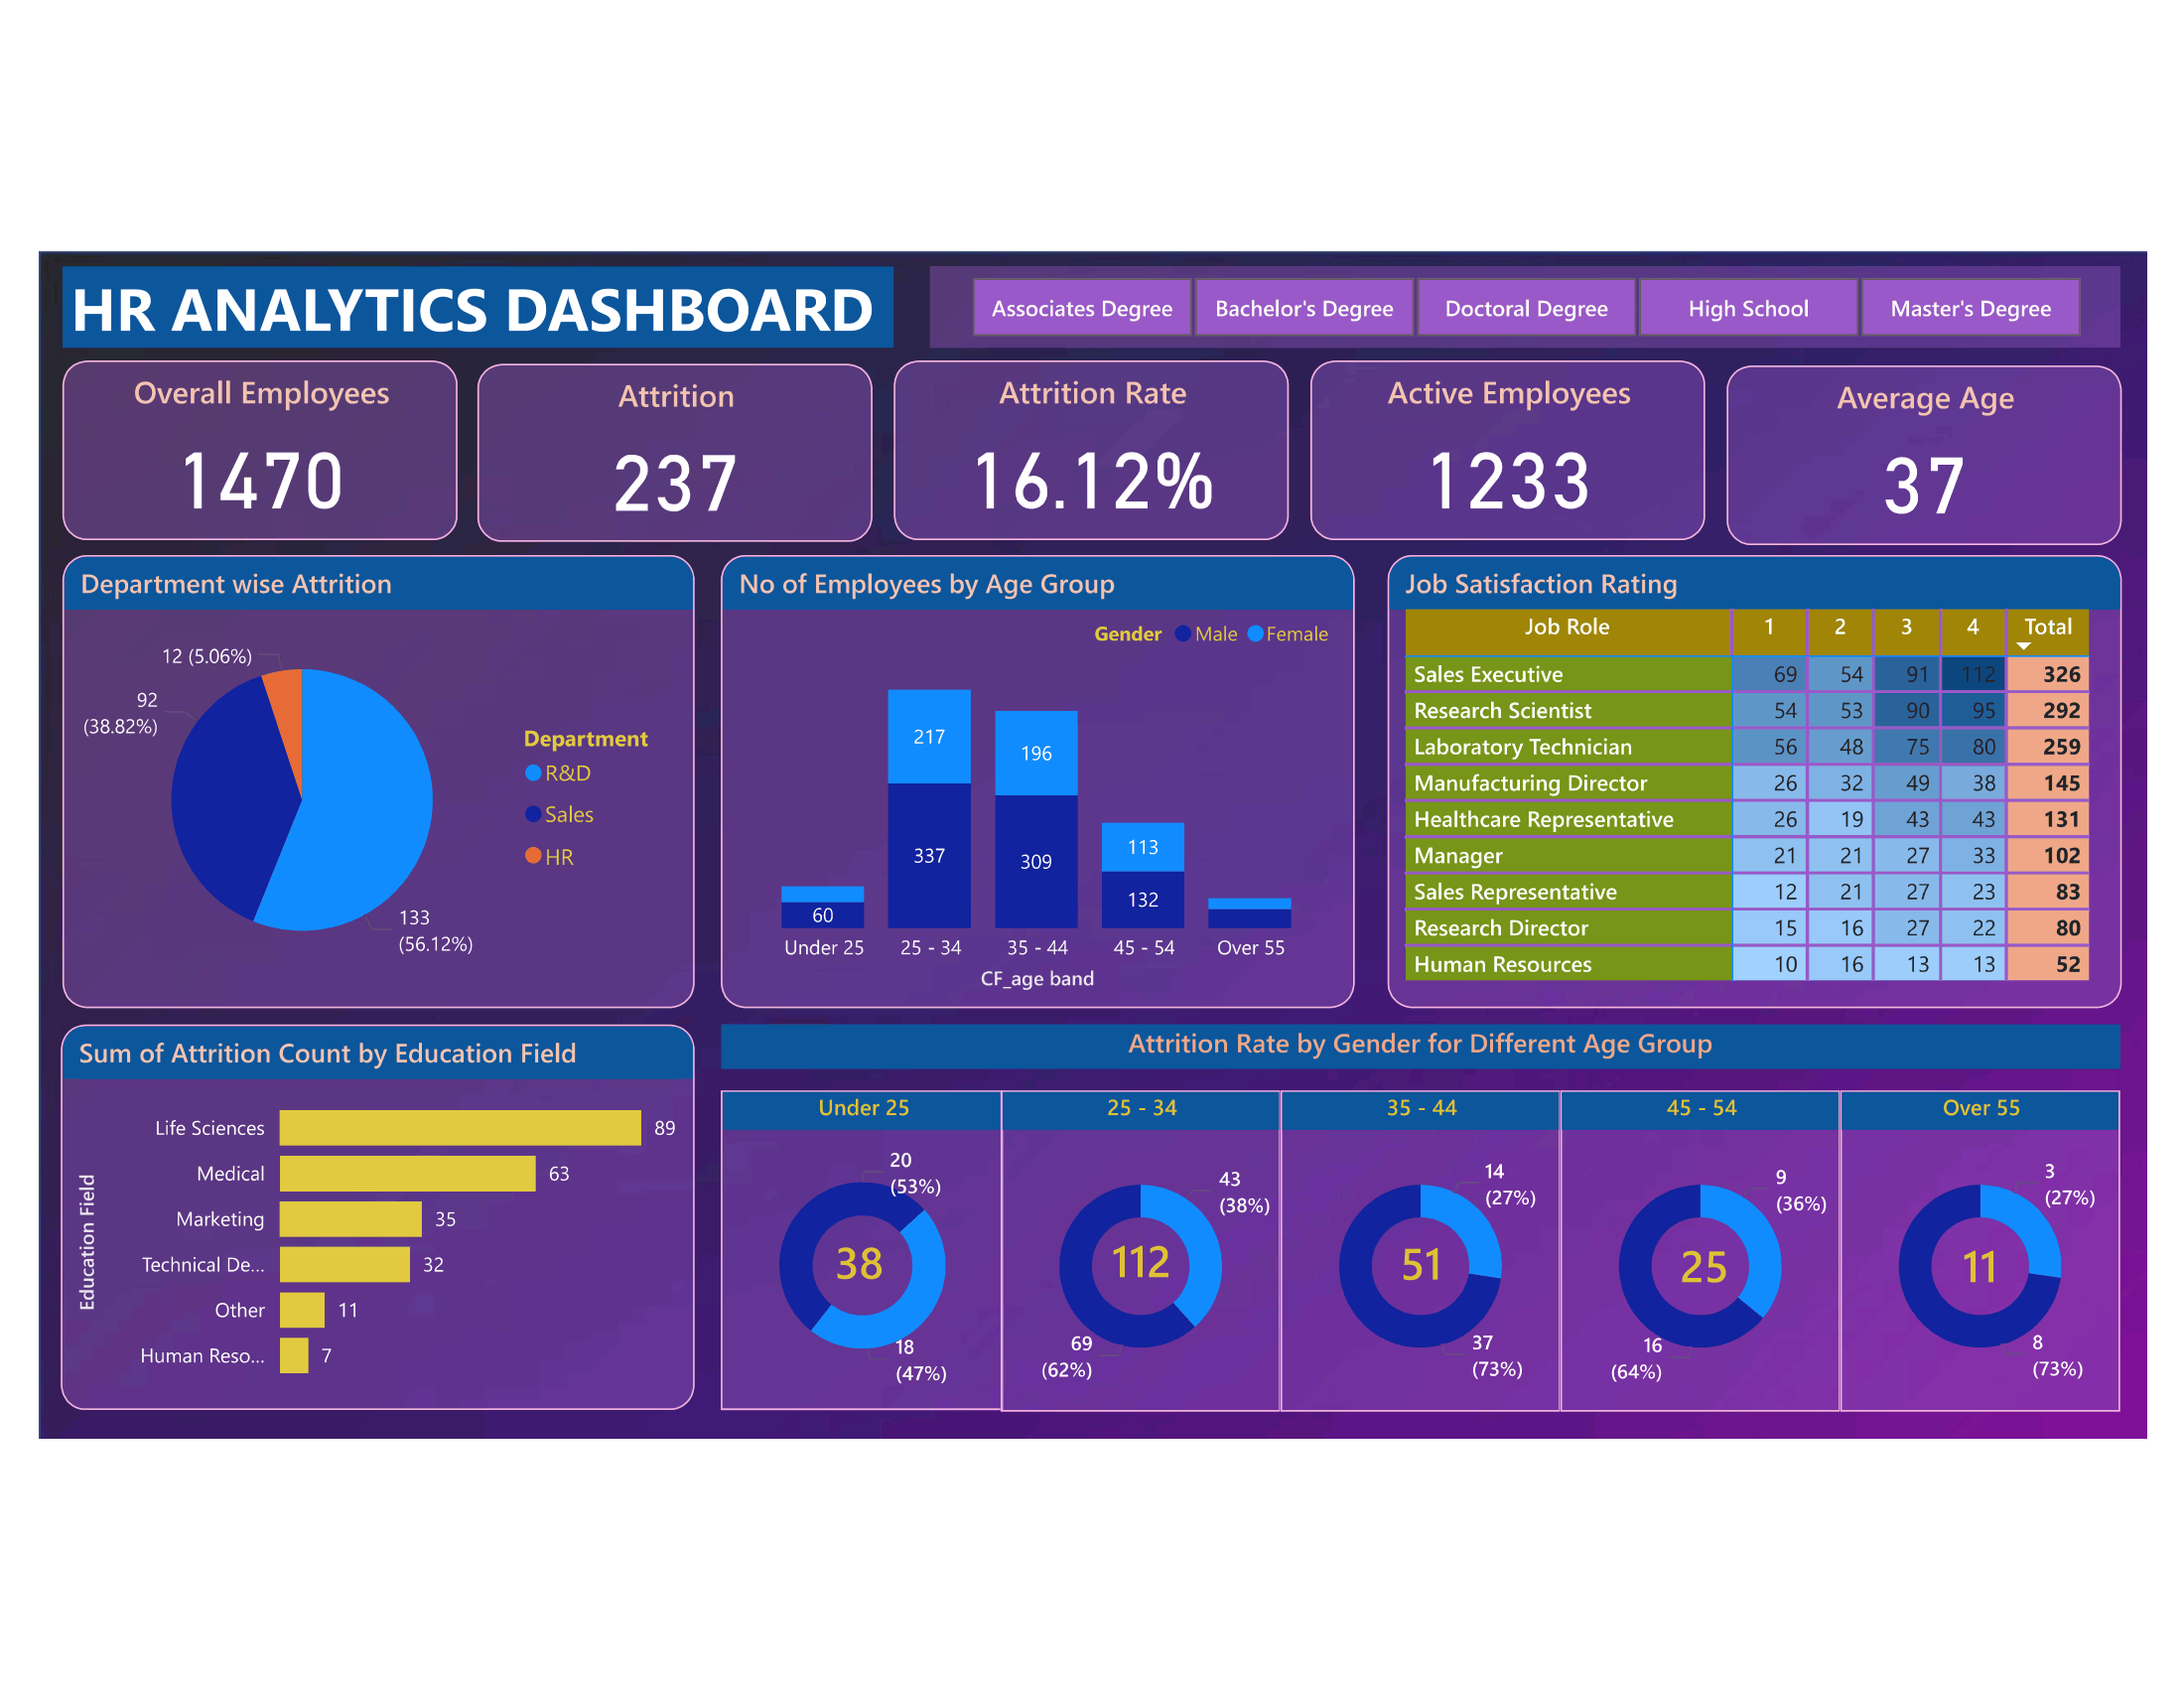

This screenshot's page, from the dashboard's own definition file:
{"tool":"powerbi","page":{"name":"Page 1","canvas":[1280,720],"ordinal":0},"visuals":[{"type":"card","title":"Overall Employees","fields":{"Values":["Sum(Table1.Employee Count)"]},"box":[13.5,65.6,240.1,109.8],"z":0},{"type":"card","title":"Attrition","fields":{"Values":["Sum(Table1.Attrition Count)"]},"box":[266.2,67.5,240,108.8],"z":1000},{"type":"card","title":"Attrition Rate","fields":{"Values":["Table1.Attrition Rate"]},"box":[519,65.6,240.1,109.8],"z":2000},{"type":"card","title":"Active Employees","fields":{"Values":["Table1.Active Employees"]},"box":[771.8,65.6,240.1,109.8],"z":3000},{"type":"card","title":"Average Age","fields":{"Values":["Avg(Table1.Age)"]},"box":[1025,68.8,240,108.8],"z":4000},{"type":"pieChart","title":"Department wise Attrition","fields":{"Category":["Table1.Department"],"Y":["Sum(Table1.Attrition Count)"]},"box":[13.5,184.1,384.9,275.1],"z":5000},{"type":"columnChart","title":"No of Employees by Age Group","fields":{"Category":["Table1.CF_age band"],"Y":["Sum(Table1.Employee Count)"],"Series":["Table1.Gender"]},"box":[414.1,184.1,384.9,275.1],"z":6000},{"type":"pivotTable","title":"Job Satisfaction Rating","fields":{"Rows":["Table1.Job Role"],"Columns":["Table1.Job Satisfaction"],"Values":["Sum(Table1.Employee Count)"]},"box":[819.4,184.1,445.2,275.1],"z":7000},{"type":"barChart","fields":{"Category":["Table1.Education Field"],"Y":["Sum(Table1.Attrition Count)"]},"box":[13,468.6,385,234],"z":8000},{"type":"donutChart","title":"Under 25","fields":{"Y":["Sum(Table1.Attrition Count)"],"Category":["Table1.Gender"],"Series":["Table1.CF_age band"]},"box":[414.4,508.9,171.1,194.4],"z":9000},{"type":"textbox","title":"Attrition Rate by Gender for Different Age Group","box":[414.3,468.6,850,30],"z":10000},{"type":"donutChart","title":"25 - 34","fields":{"Y":["Sum(Table1.Attrition Count)"],"Category":["Table1.Gender"],"Series":["Table1.CF_age band"]},"box":[583.8,508.8,170,195],"z":11000},{"type":"donutChart","title":"35 - 44","fields":{"Y":["Sum(Table1.Attrition Count)"],"Category":["Table1.Gender"],"Series":["Table1.CF_age band"]},"box":[753.8,508.8,170,195],"z":12000},{"type":"donutChart","title":"45 - 54","fields":{"Y":["Sum(Table1.Attrition Count)"],"Category":["Table1.Gender"],"Series":["Table1.CF_age band"]},"box":[923.8,508.8,170,195],"z":13000},{"type":"donutChart","title":"Over 55","fields":{"Y":["Sum(Table1.Attrition Count)"],"Category":["Table1.Gender"],"Series":["Table1.CF_age band"]},"box":[1093.8,508.8,170,195],"z":14000},{"type":"card","fields":{"Values":["Sum(Table1.Attrition Count)"]},"box":[476.7,599.2,42.5,30],"z":15000},{"type":"card","fields":{"Values":["Sum(Table1.Attrition Count)"]},"box":[644.2,597.5,50.8,30],"z":16000},{"type":"card","fields":{"Values":["Sum(Table1.Attrition Count)"]},"box":[818.3,597.5,42.5,33.3],"z":17000},{"type":"card","fields":{"Values":["Sum(Table1.Attrition Count)"]},"box":[990,600.8,42.5,30],"z":18000},{"type":"card","fields":{"Values":["Sum(Table1.Attrition Count)"]},"box":[1157.5,600.8,42.5,30],"z":19000},{"type":"textbox","title":"HR ANALYTICS DASHBOARD","box":[13.8,8.8,505,48.8],"z":20000},{"type":"slicer","fields":{"Values":["Table1.Education"]},"box":[541.2,8.8,722.5,48.8],"z":21000}]}

Visuals, with their boxes in screenshot pixels (x1, y1, x2, y2):
"Overall Employees" card: x1=34, y1=344, x2=438, y2=528
"Attrition" card: x1=460, y1=347, x2=863, y2=530
"Attrition Rate" card: x1=885, y1=344, x2=1289, y2=528
"Active Employees" card: x1=1310, y1=344, x2=1714, y2=528
"Average Age" card: x1=1736, y1=350, x2=2140, y2=532
"Department wise Attrition" pieChart: x1=34, y1=543, x2=682, y2=1006
"No of Employees by Age Group" columnChart: x1=708, y1=543, x2=1356, y2=1006
"Job Satisfaction Rating" pivotTable: x1=1390, y1=543, x2=2139, y2=1006
barChart - Table1.Education Field x Sum(Table1.Attrition Count): x1=33, y1=1022, x2=681, y2=1416
"Under 25" donutChart: x1=709, y1=1089, x2=997, y2=1417
"Attrition Rate by Gender for Different Age Group" textbox: x1=709, y1=1022, x2=2138, y2=1072
"25 - 34" donutChart: x1=994, y1=1089, x2=1280, y2=1418
"35 - 44" donutChart: x1=1280, y1=1089, x2=1566, y2=1418
"45 - 54" donutChart: x1=1566, y1=1089, x2=1851, y2=1418
"Over 55" donutChart: x1=1851, y1=1089, x2=2138, y2=1418
card - Sum(Table1.Attrition Count): x1=813, y1=1242, x2=885, y2=1292
card - Sum(Table1.Attrition Count): x1=1095, y1=1239, x2=1180, y2=1290
card - Sum(Table1.Attrition Count): x1=1388, y1=1239, x2=1460, y2=1295
card - Sum(Table1.Attrition Count): x1=1678, y1=1244, x2=1749, y2=1295
card - Sum(Table1.Attrition Count): x1=1959, y1=1244, x2=2030, y2=1295
"HR ANALYTICS DASHBOARD" textbox: x1=35, y1=248, x2=885, y2=331
slicer - Table1.Education: x1=922, y1=248, x2=2137, y2=331
